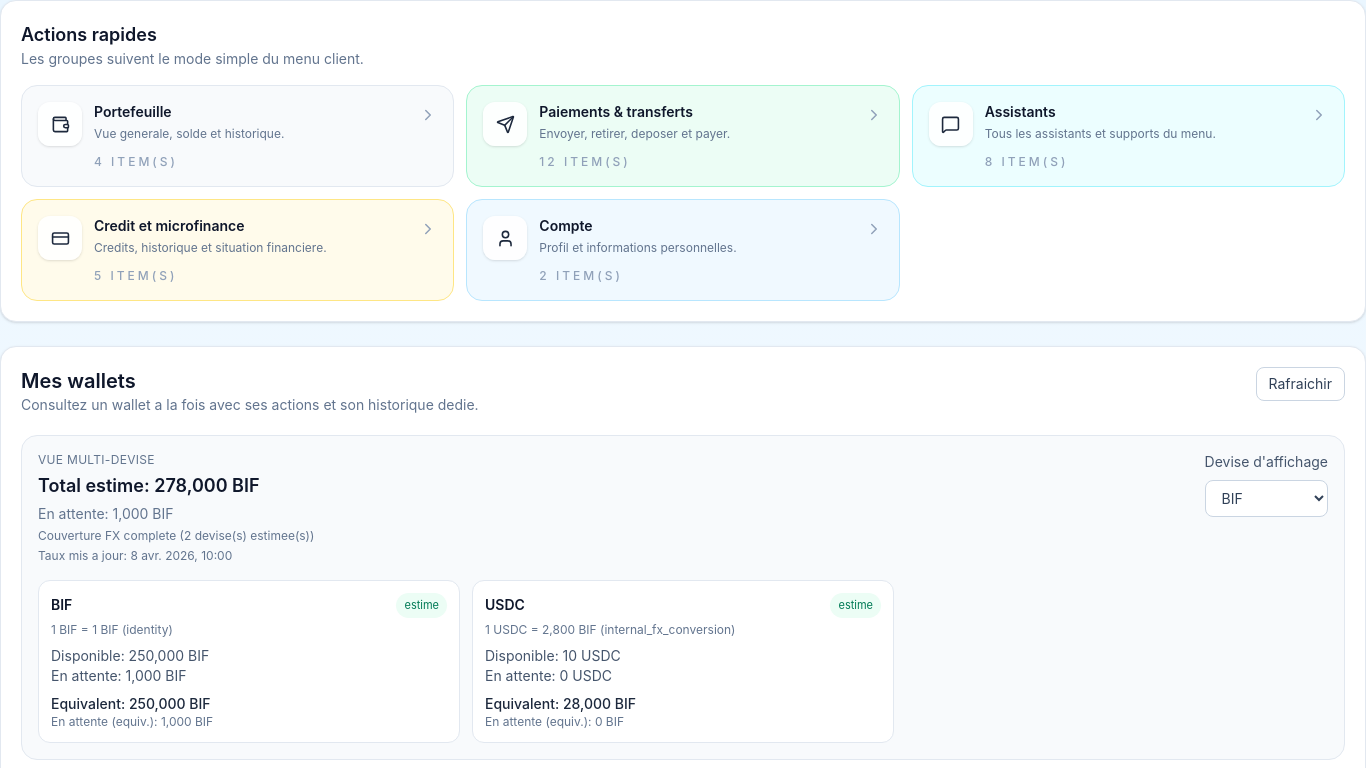
it: WalletPage › shows multi-currency totals and updates display currency
The width and height of the screenshot is (1366, 768).
expect the heading "Total estime: 278,000 BIF" is shown: met, box [38,475,260,496]
expect the text "1 USDC = 2,800 BIF (internal_fx_conversion)" is shown: met, box [485,622,736,636]
Select "USD" in the dropdown labelled "Devise d'affichage" at (1266, 498), box [1204,480,1328,517]
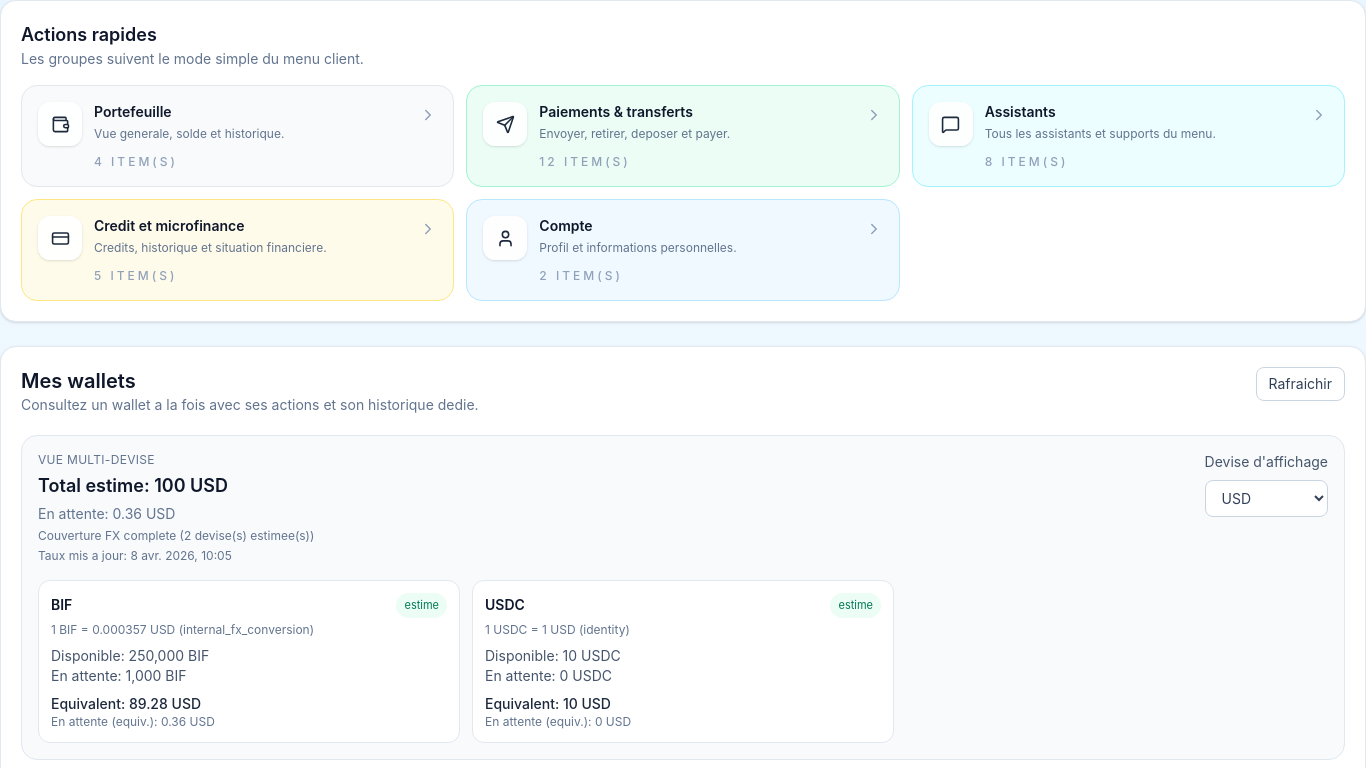
expect the heading "Total estime: 100 USD" is shown: met, box [38,475,228,496]
